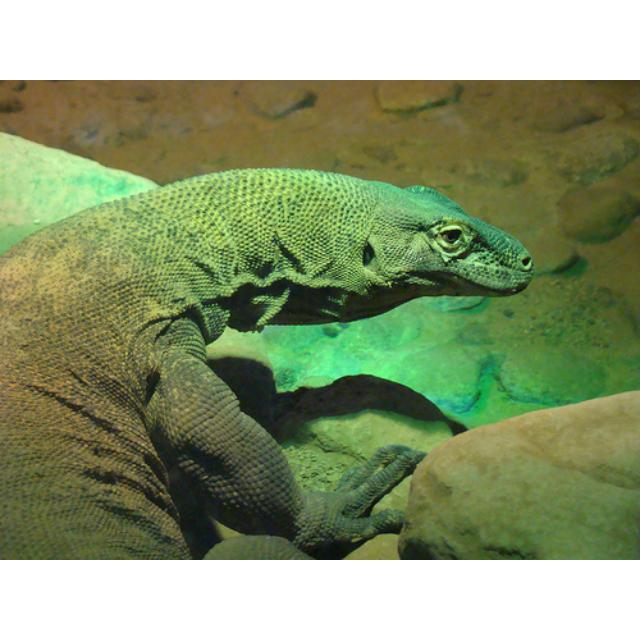KomodoDragon: (0, 171, 532, 558)
